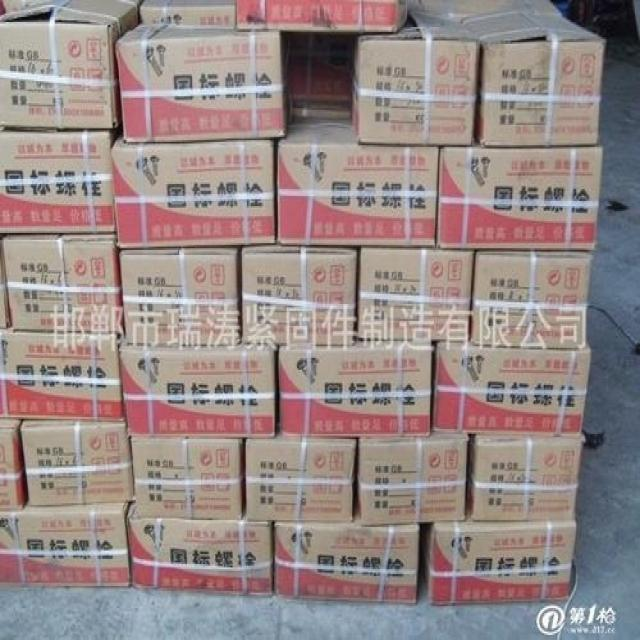box: (276, 113, 441, 248), (457, 1, 602, 147), (115, 23, 292, 141), (433, 135, 603, 251), (113, 130, 277, 249), (351, 1, 481, 146), (0, 1, 141, 128), (120, 340, 280, 434), (277, 344, 435, 439), (430, 343, 591, 435), (126, 502, 275, 597), (417, 518, 575, 601), (0, 128, 117, 235), (117, 244, 243, 343), (0, 328, 126, 424), (471, 251, 595, 347), (238, 245, 358, 343), (275, 520, 418, 602), (2, 233, 122, 330), (357, 248, 474, 343), (0, 502, 133, 583), (357, 432, 469, 527), (130, 434, 245, 523), (466, 432, 585, 517), (21, 419, 136, 505), (240, 436, 356, 521), (234, 1, 409, 34), (288, 33, 354, 116), (0, 418, 29, 508), (142, 2, 238, 26), (0, 236, 11, 326)
